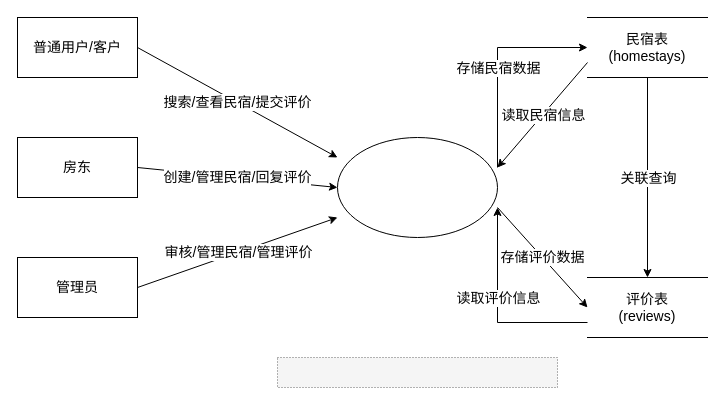
Some shapes in this 725 by 405 pixel diagram are drawn without their labels. The shapes that lost their labels are listed below. From the top down, each one's centre as x and y in pixels, then its label:
(x=417, y=187): 民宿管理系统
(x=417, y=372): 民宿管理模块 0 层数据流图
